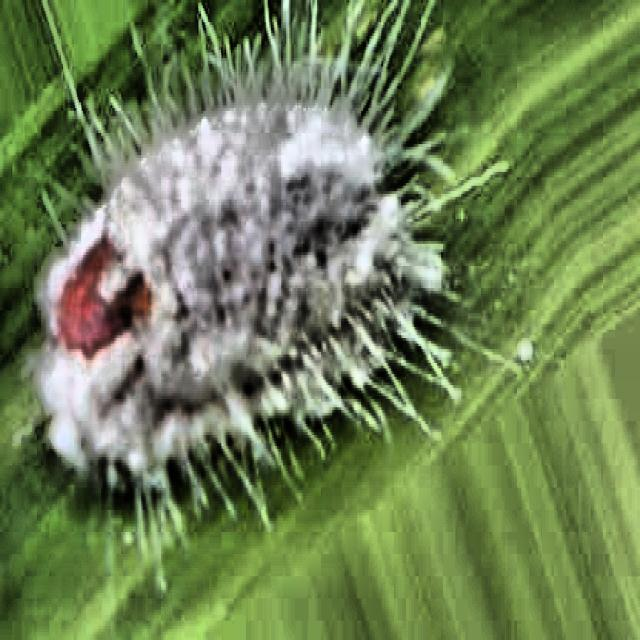Mealy-bug: (19, 11, 472, 522)
